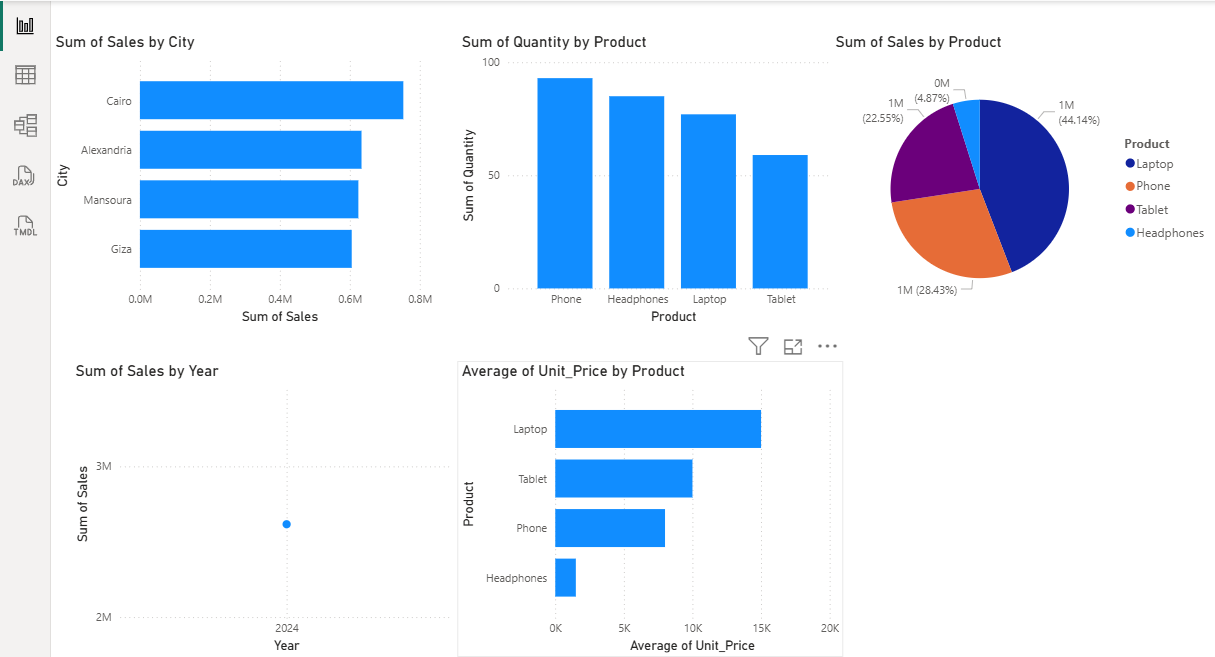

The dashboard page shown, as its layout file describes it:
{"tool":"powerbi","page":{"name":"Page 1","canvas":[1280,720],"ordinal":0},"visuals":[{"type":"barChart","fields":{"Category":["salse.City"],"Y":["Sum(salse.Sales)"]},"box":[0,34.3,424,325.2],"z":0},{"type":"clusteredColumnChart","fields":{"Category":["salse.Product"],"Y":["Sum(salse.Quantity)"]},"box":[446,34.3,424,325.2],"z":1},{"type":"pieChart","fields":{"Category":["salse.Product"],"Y":["Sum(salse.Sales)"]},"box":[856.3,34.3,424,325.2],"z":2},{"type":"lineChart","fields":{"Category":["salse.Order_Date.Variation.Date Hierarchy.Year","salse.Order_Date.Variation.Date Hierarchy.Quarter","salse.Order_Date.Variation.Date Hierarchy.Month","salse.Order_Date.Variation.Date Hierarchy.Day"],"Y":["Sum(salse.Sales)"]},"box":[22,395.2,424,325.2],"z":3},{"type":"barChart","fields":{"Category":["salse.Product"],"Y":["Avg(salse.Unit_Price)"]},"box":[446,395.2,424,325.2],"z":4}]}

Visuals, with their boxes on the page's 1280x720 design canvas (x1, y1, x2, y2). These are canvas units, not pixel positions in the 1215x657 screenshot, which may show the page scaled, cropped or inside an application window:
barChart - salse.City x Sum(salse.Sales): bbox=[0, 34, 424, 360]
clusteredColumnChart - salse.Product x Sum(salse.Quantity): bbox=[446, 34, 870, 360]
pieChart - salse.Product x Sum(salse.Sales): bbox=[856, 34, 1280, 360]
lineChart - salse.Order_Date.Variation.Date Hierarchy.Year x salse.Order_Date.Variation.Date Hierarchy.Quarter: bbox=[22, 395, 446, 720]
barChart - salse.Product x Avg(salse.Unit_Price): bbox=[446, 395, 870, 720]
